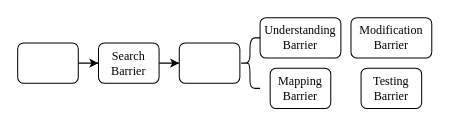
Some shapes in this 449 by 126 pixel diagram are drawn without their labels. Here are the shapes that lost their labels. From the top down, the box of each, then its label:
(17, 42, 78, 83): Decision Barrier
(178, 42, 240, 83): Integration Barrier
